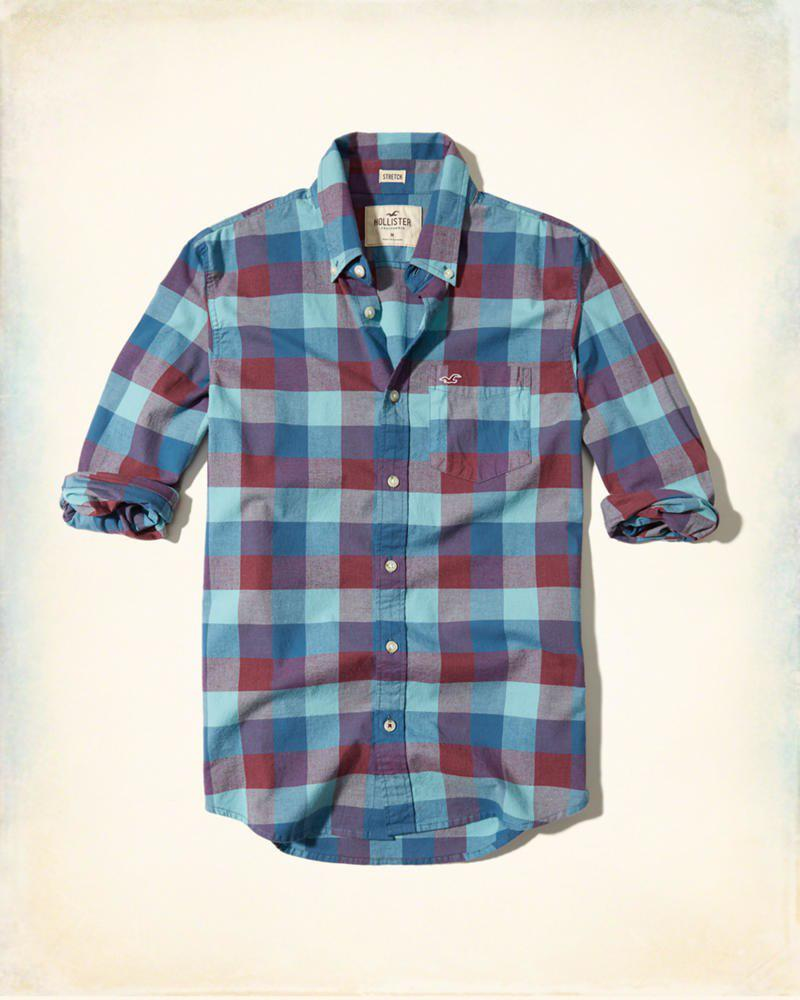teeshirt: (49, 107, 723, 860)
